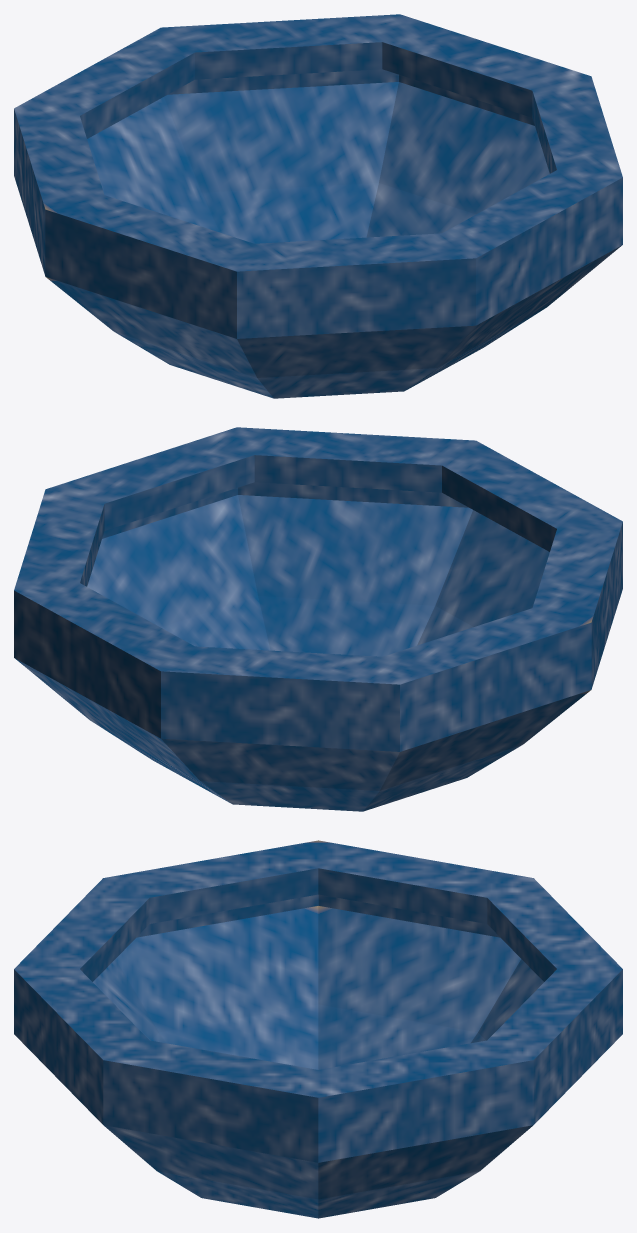
Rendered from Bowl.fbx.
3 views of the same model, one above another, from view 1: azimuth 30°, elevation 25°; view 2: azimuth 150°, elevation 25°; view 3: azimuth 270°, elevation 25° (orthographic). The views are drawn at different scales.
Visible parts, largest first — view 1: Bowl; view 2: Bowl; view 3: Bowl.
Part boxes in pixels (x1,y1,x2,y2): Bowl: [14, 14, 622, 398]; Bowl: [14, 427, 622, 811]; Bowl: [14, 840, 622, 1218].
Bounding box in the file's own units: 266 × 86.58 × 266.
